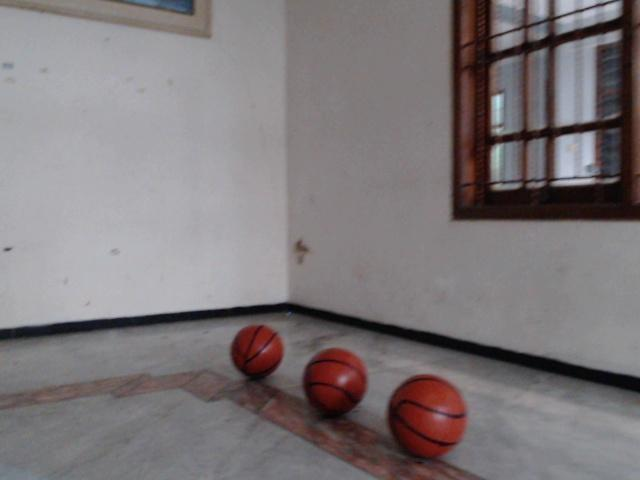Sports-Ball: (382, 371, 467, 459), (296, 347, 372, 417), (230, 325, 284, 381)
